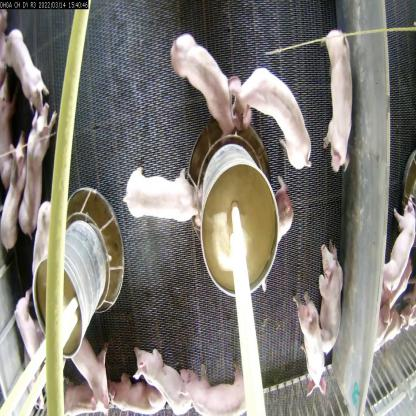Pig: (232, 63, 314, 174), (170, 30, 245, 144), (312, 37, 365, 172), (115, 161, 203, 233), (311, 239, 353, 366), (126, 339, 196, 413), (286, 286, 330, 394), (68, 331, 121, 415), (378, 200, 416, 316), (8, 280, 54, 374), (2, 26, 49, 108), (182, 362, 253, 415), (22, 108, 51, 235), (0, 142, 29, 254), (99, 375, 156, 415)
